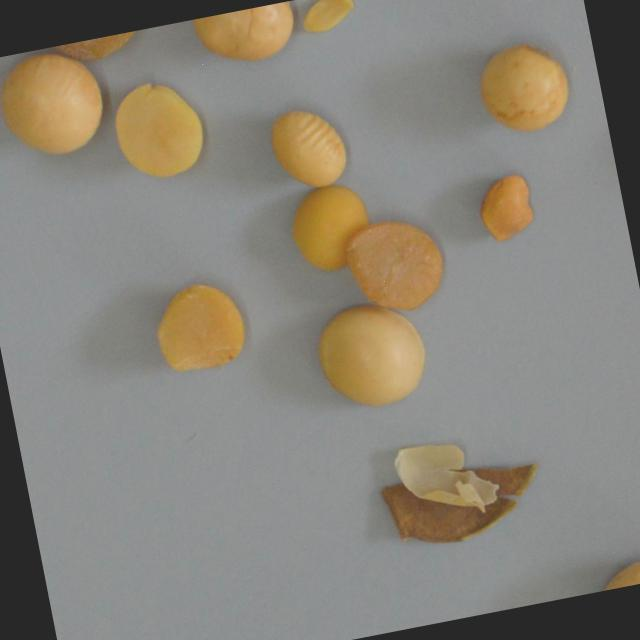cuerpos_extranos: (366, 412, 557, 567), (302, 297, 437, 420), (97, 62, 222, 194), (0, 39, 112, 173), (461, 31, 584, 147), (333, 210, 454, 327), (142, 264, 256, 384), (258, 94, 362, 204), (282, 176, 383, 289), (190, 0, 306, 77), (466, 164, 544, 254), (46, 26, 161, 72), (577, 546, 640, 595), (297, 0, 364, 42)
